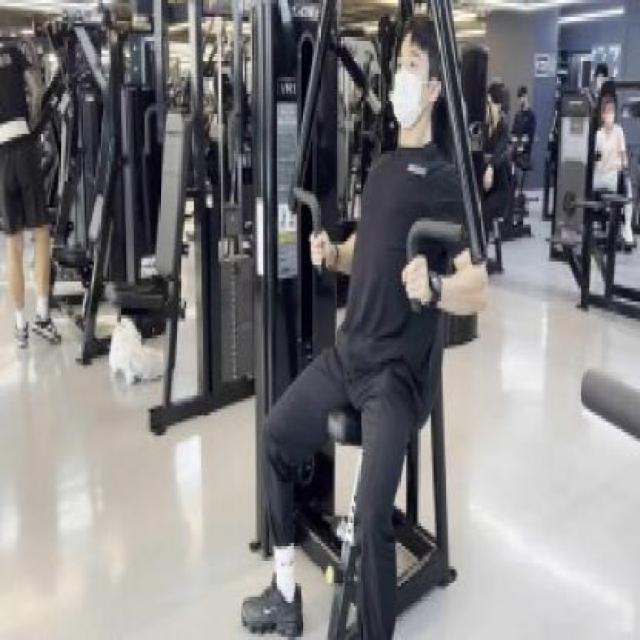Chest Press machine: (243, 0, 492, 640)
